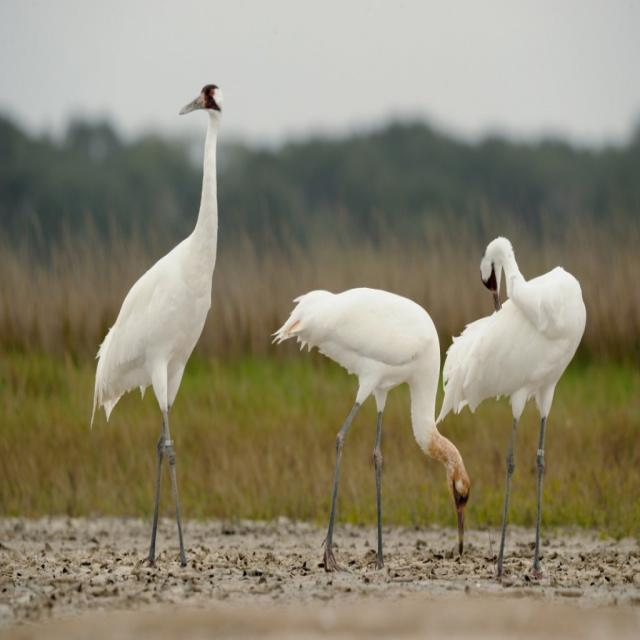bird: (81, 80, 227, 576), (266, 273, 478, 596), (435, 236, 604, 576)
